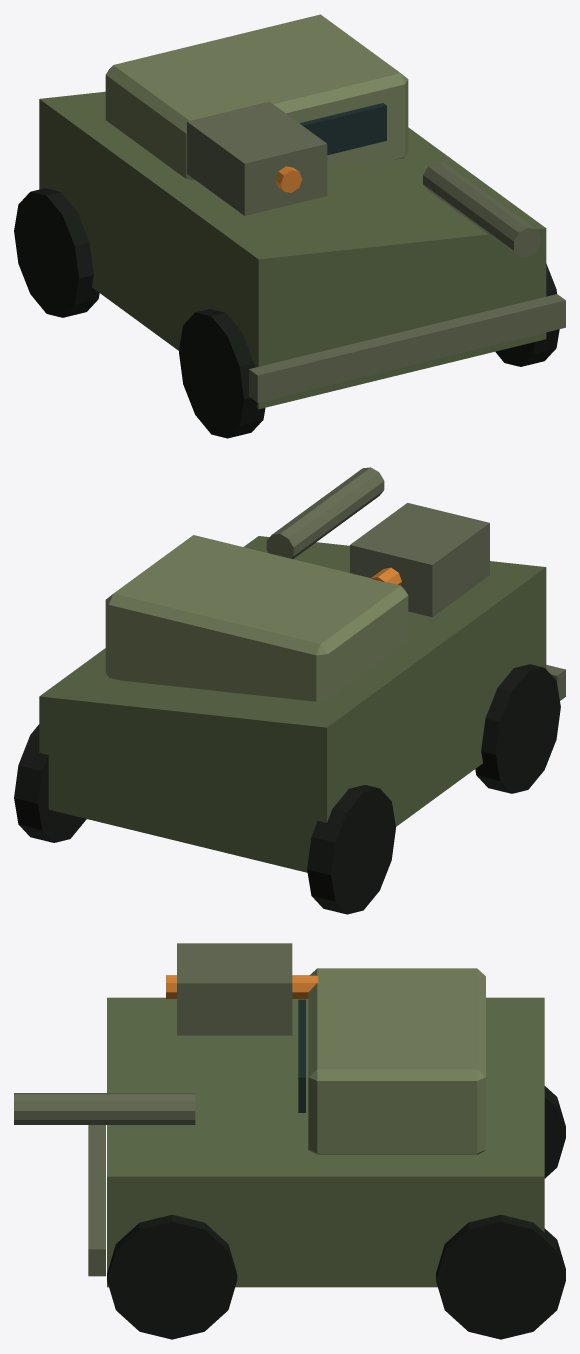
The model's file is raider.obj.
3 renders of one model, top to bottom at view 1: azimuth 30°, elevation 25°; view 2: azimuth 150°, elevation 25°; view 3: azimuth 270°, elevation 25°, orthographic.
Parts seen in each view (by area): view 1: Body.004, Wheel_02.001, Wheel_00.002, Wheel_01.002; view 2: Body.004, Wheel_02.001, Wheel_00.002, Wheel_03.001; view 3: Body.004, Wheel_03.001, Wheel_01.002, Wheel_02.001.
Part boxes in pixels (<box>): Body.004: <box>39,14,565,409</box>; Wheel_02.001: <box>14,188,99,317</box>; Wheel_00.002: <box>179,309,265,438</box>; Wheel_01.002: <box>495,264,559,366</box>; Body.004: <box>39,467,565,872</box>; Wheel_02.001: <box>307,785,395,914</box>; Wheel_00.002: <box>475,664,560,793</box>; Wheel_03.001: <box>14,724,86,842</box>; Body.004: <box>14,943,544,1287</box>; Wheel_03.001: <box>436,1214,565,1339</box>; Wheel_01.002: <box>107,1214,237,1339</box>; Wheel_02.001: <box>544,1086,565,1178</box>.
Size of the model in its own units: 6.42 by 5.04 by 9.71.
1 material, 1 textured.
